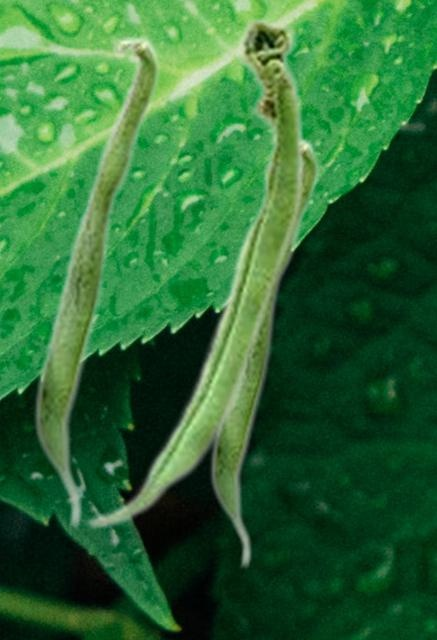french_bean: (84, 14, 304, 530), (33, 34, 160, 531), (209, 137, 319, 570)
